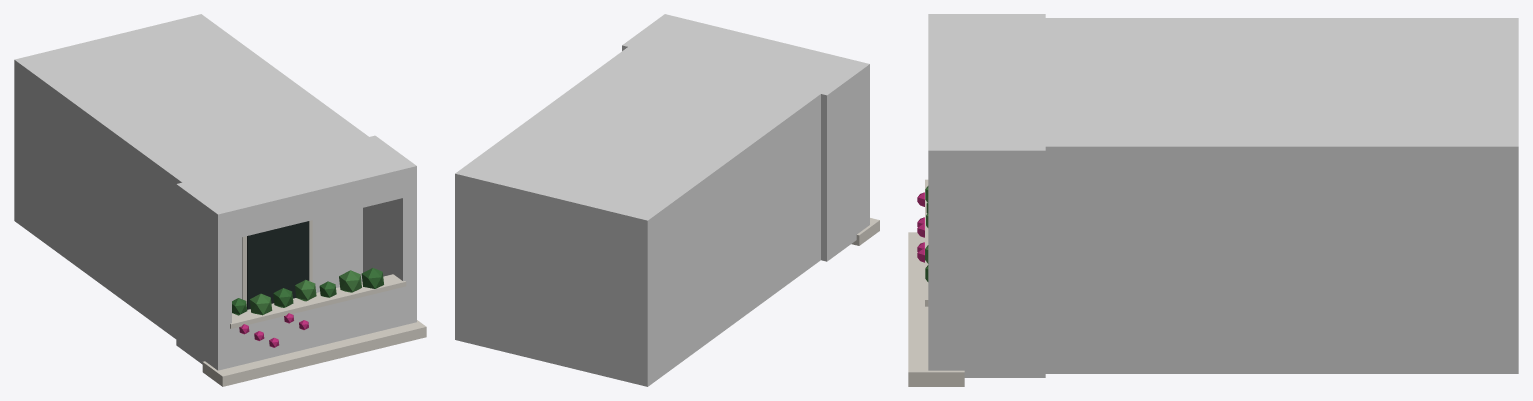
File: lau_lo_gia_40.glb
3 renders of one model, left to right at view 1: azimuth 30°, elevation 25°; view 2: azimuth 150°, elevation 25°; view 3: azimuth 270°, elevation 25°, orthographic. The views are drawn at different scales.
Parts seen in each view (by area): view 1: lau_lo_gia_40; view 2: lau_lo_gia_40; view 3: lau_lo_gia_40.
Boxes of the visible parts, x1,y1,x2,y2 form: lau_lo_gia_40: (14,14,426,386); lau_lo_gia_40: (455,14,879,386); lau_lo_gia_40: (908,14,1518,386).
Size of the model in its own units: 4.1 by 3.2 by 7.55.
